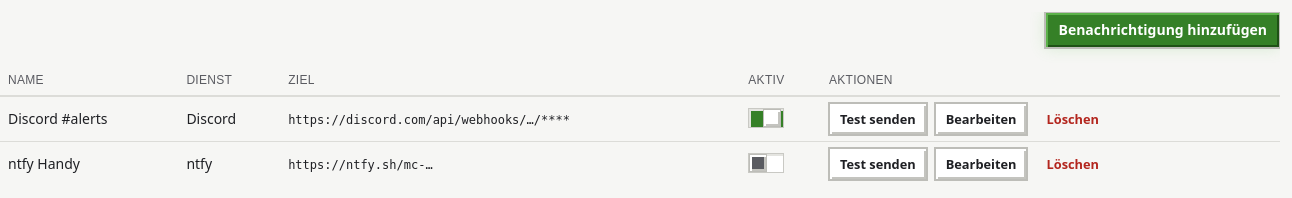
Test case: NotifiersTab › sends a test message
Click the button with aria-label "Testnachricht an Discord #alerts senden" at (878, 119), box [829,103,927,135]
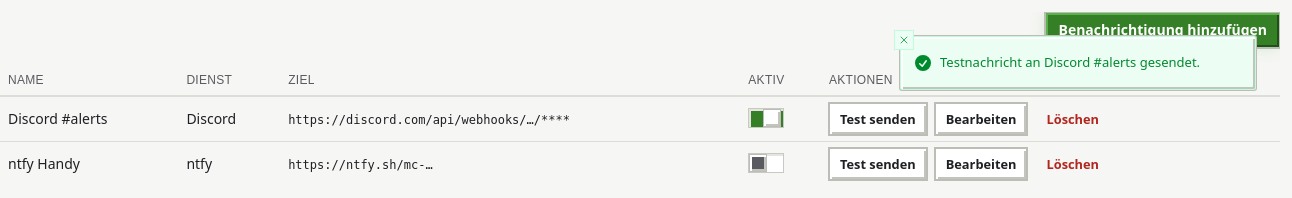
Expected: the text "Testnachricht an Discord #alerts gesendet." is shown, [940,53,1200,72]
